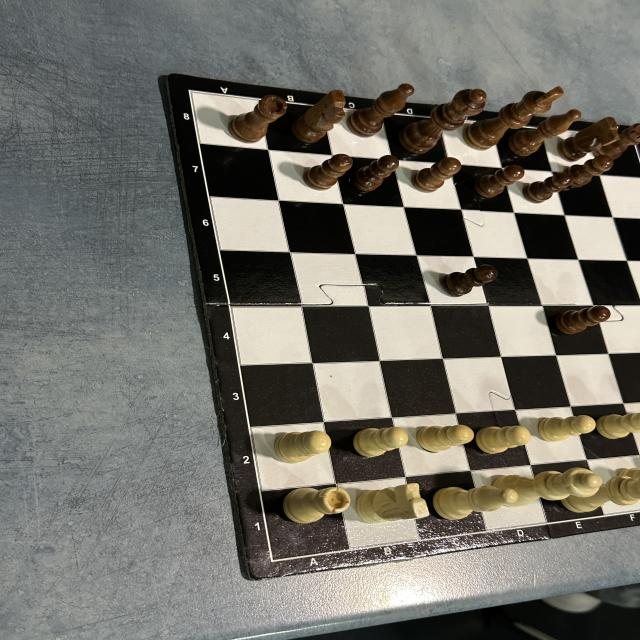Black-Bishop: (346, 83, 414, 136), (508, 109, 582, 156)
Black-King: (463, 85, 564, 148)
Black-Knight: (293, 90, 346, 144), (558, 116, 618, 162)
Black-Pawn: (304, 153, 353, 190), (442, 264, 498, 296), (352, 155, 400, 192), (412, 157, 461, 192), (475, 164, 525, 198), (564, 154, 614, 188), (524, 172, 574, 203), (558, 305, 610, 334)
Black-Queen: (403, 89, 487, 152)
Black-Rook: (229, 95, 290, 143), (592, 123, 640, 160)
White-Bishop: (432, 486, 519, 520)
White-King: (561, 477, 640, 512)
White-Knight: (355, 484, 432, 524)
White-Pawn: (274, 431, 334, 463), (353, 426, 409, 456), (418, 425, 473, 453), (476, 426, 531, 454), (538, 416, 596, 441), (596, 412, 640, 438)
White-Queen: (494, 466, 602, 507)
White-Rook: (282, 488, 352, 524)
